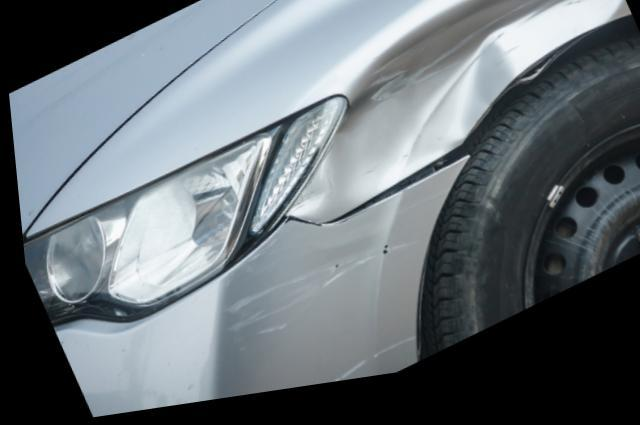dent: (284, 0, 624, 222)
scratch: (215, 251, 412, 358), (315, 345, 409, 392)
